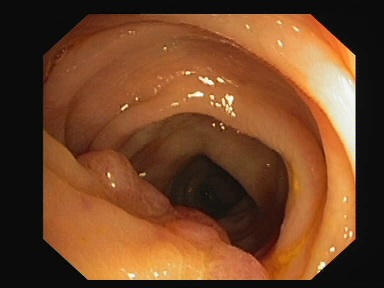polyp: (53, 130, 284, 284)
